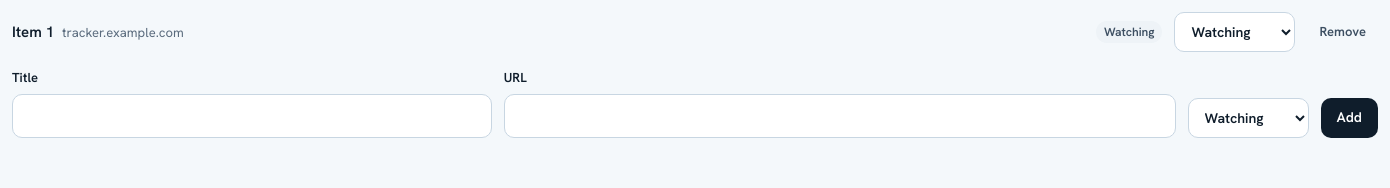
Test: RoadmapLinks › reverts a failed stance change
Select "Deprioritize" in the dropdown named "Stance for Item 1" in the row of "Item 1" at (1235,32), box [1174,12,1296,52]
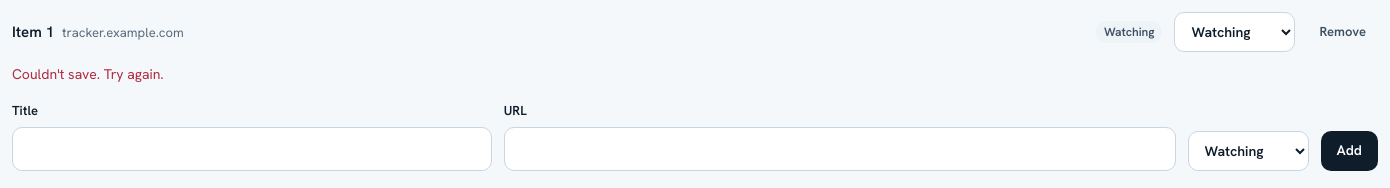
Result: the message reads "Couldn't save. Try again." at [12,65,164,83]
